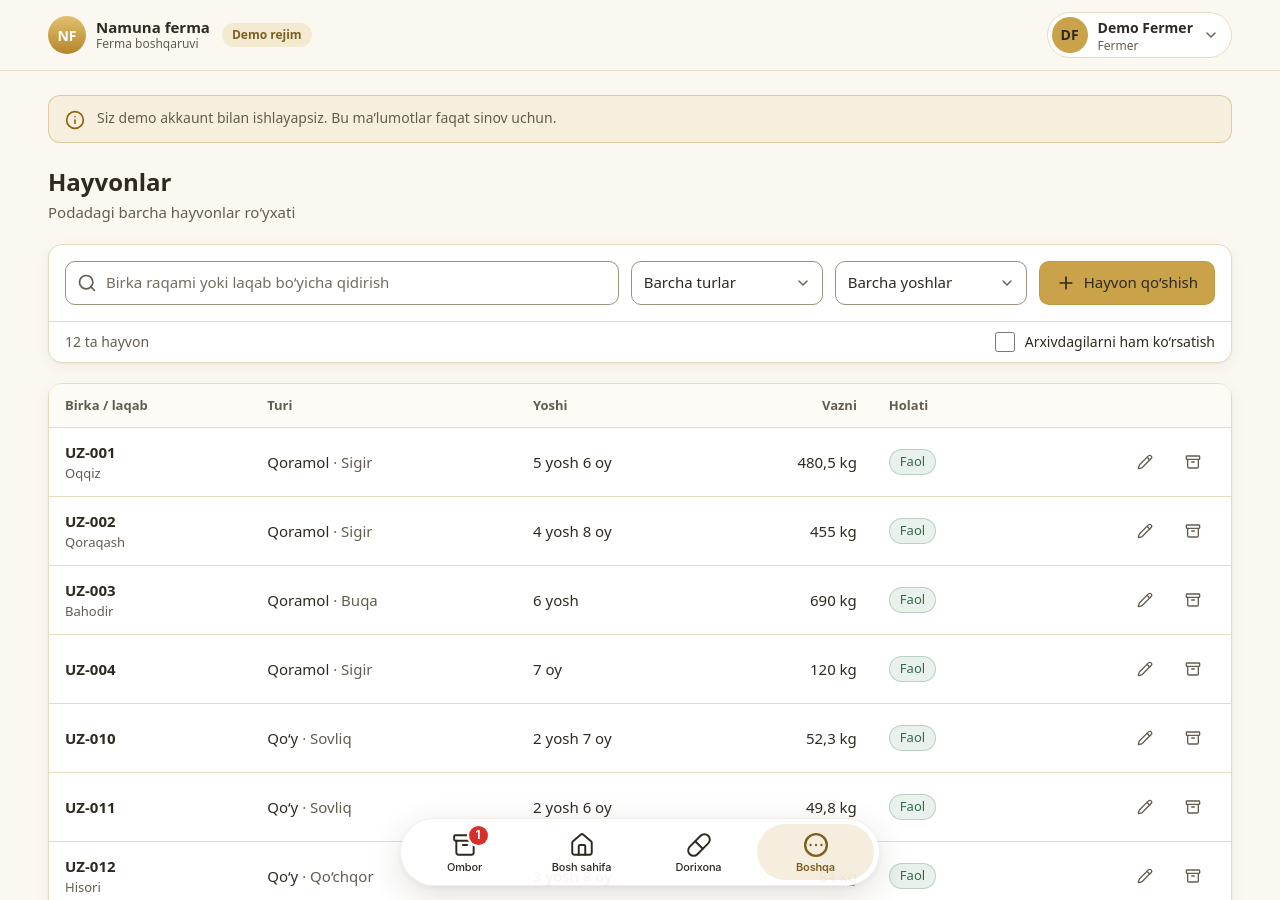
Test: animals › lists every animal of the farm and filters locally by search and species
Expected: the text "12 ta hayvon" is shown, [65,332,149,352]
Type "oqqiz" into the search field labelled "qidirish" at (342, 282), box [65,260,619,304]
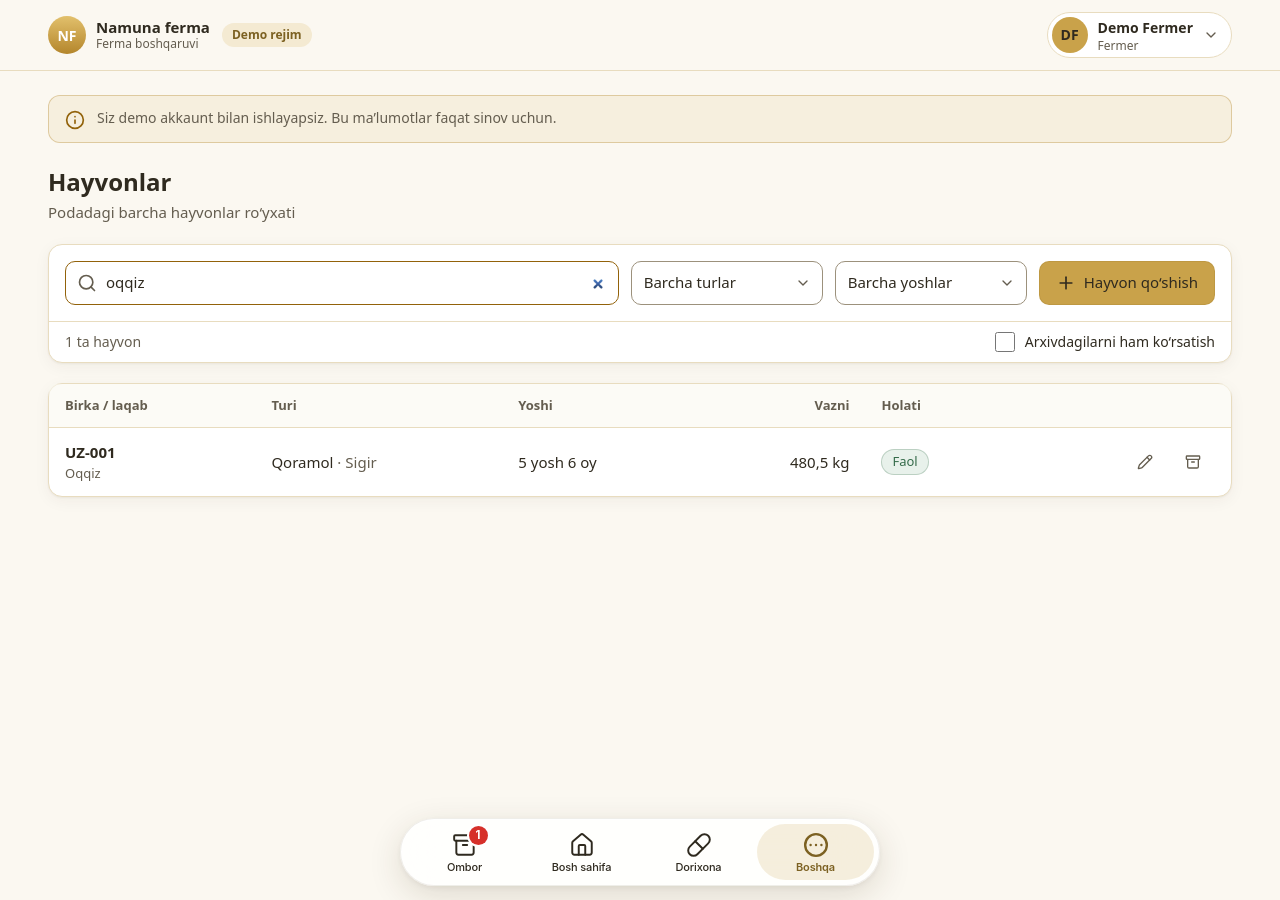
Expected: the cell "UZ-001 Oqqiz" is shown, [49,428,255,496]
Now the text "1 ta hayvon" is shown, box [65,332,141,352]
Clear the search field named "qidirish" at (342, 282), box [65,260,619,304]
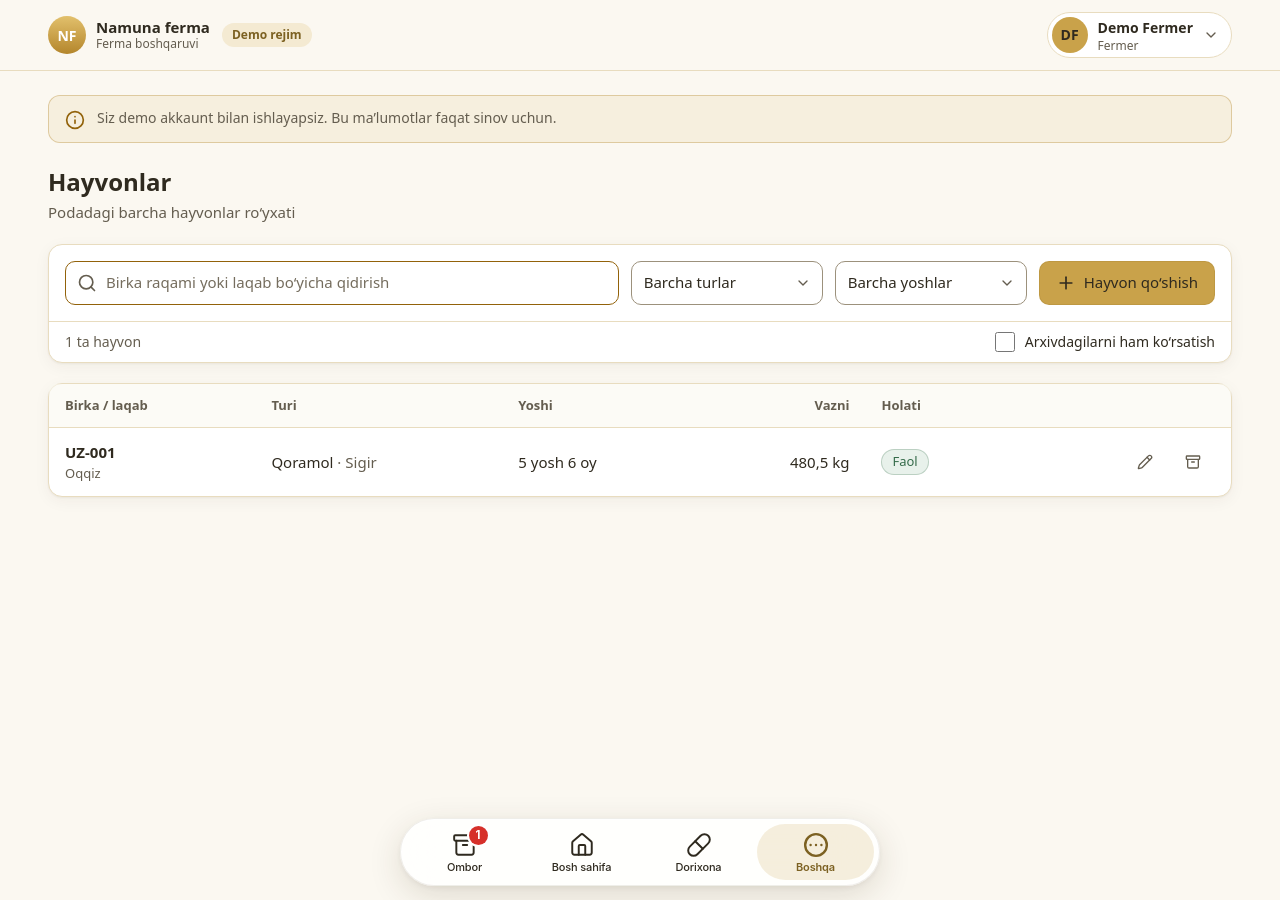
Select "Qo‘y" in the 1st dropdown named "Hayvon turi" at (727, 282), box [631,260,823,304]
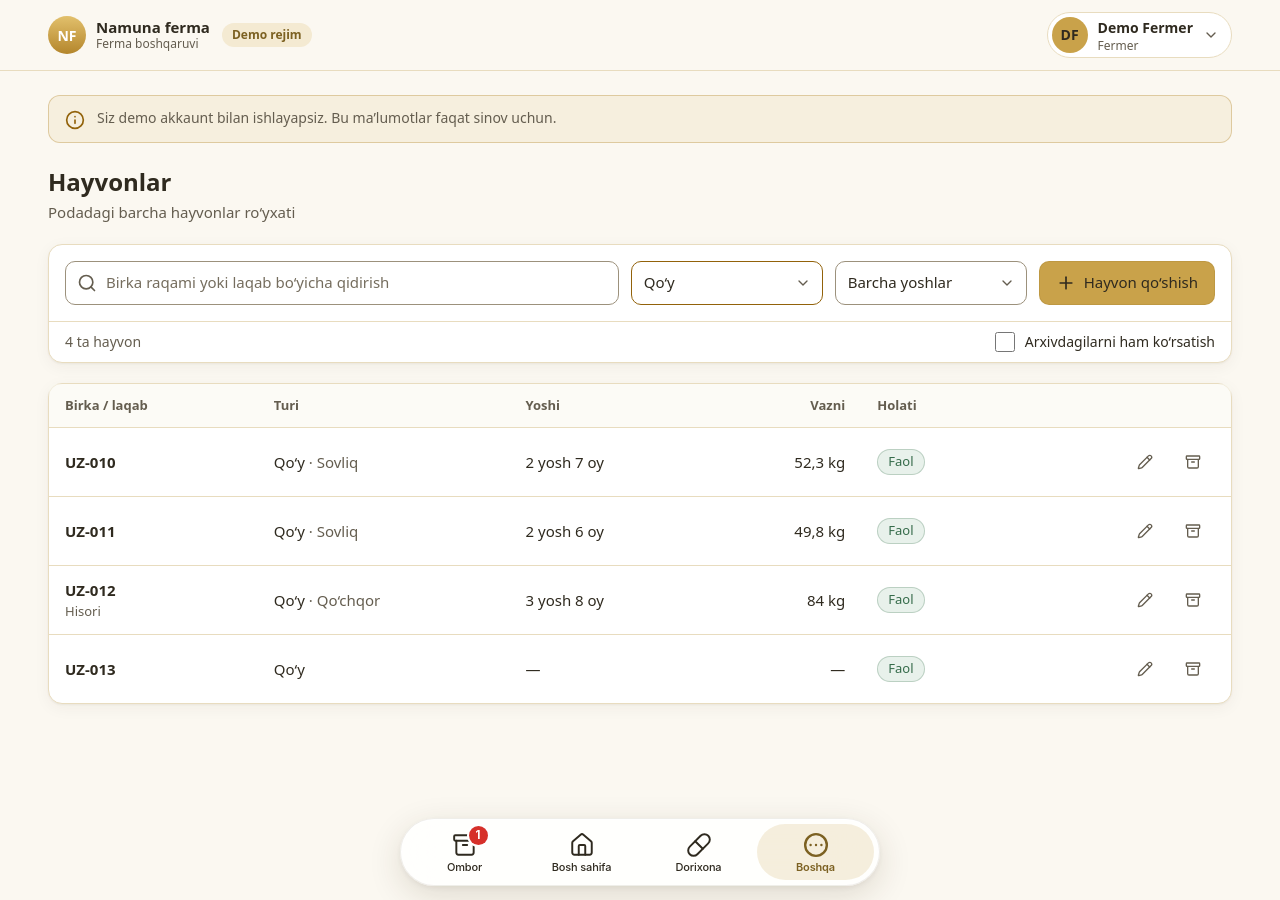
Now the text "4 ta hayvon" is shown, box [65,332,141,352]
